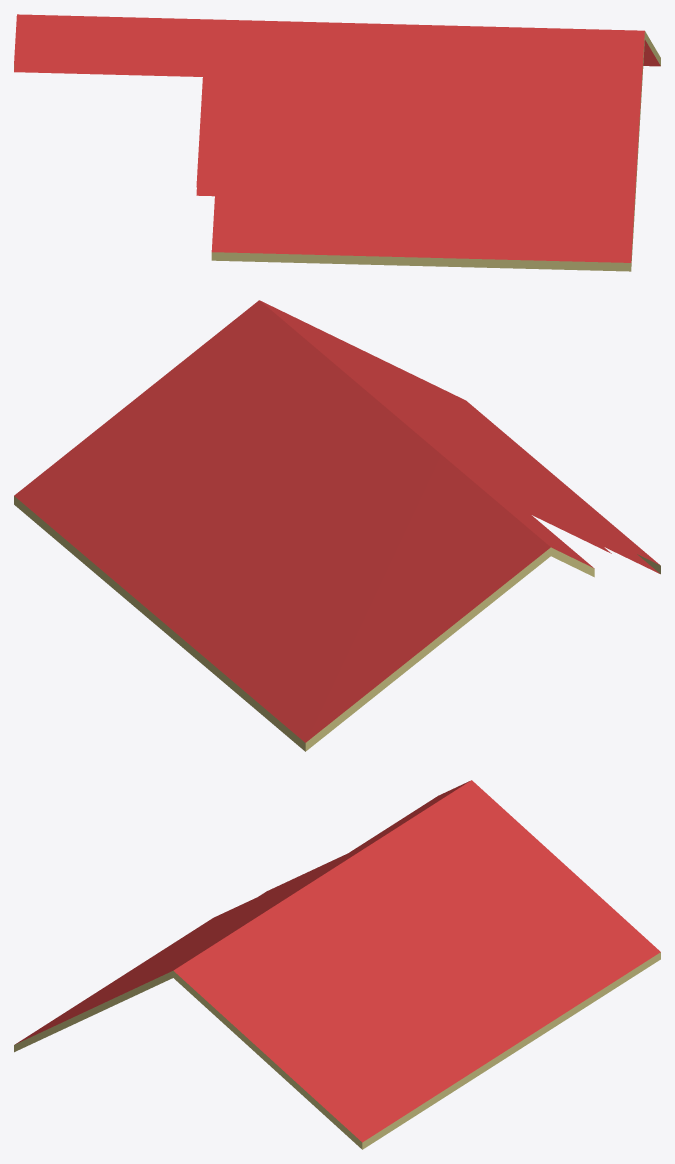
3 renders of one model, top to bottom at view 1: azimuth 30°, elevation 25°; view 2: azimuth 150°, elevation 25°; view 3: azimuth 270°, elevation 25°, orthographic. The views are drawn at different scales.
Bounding box in the file's own units: 7.39 × 7.99 × 1.72.
